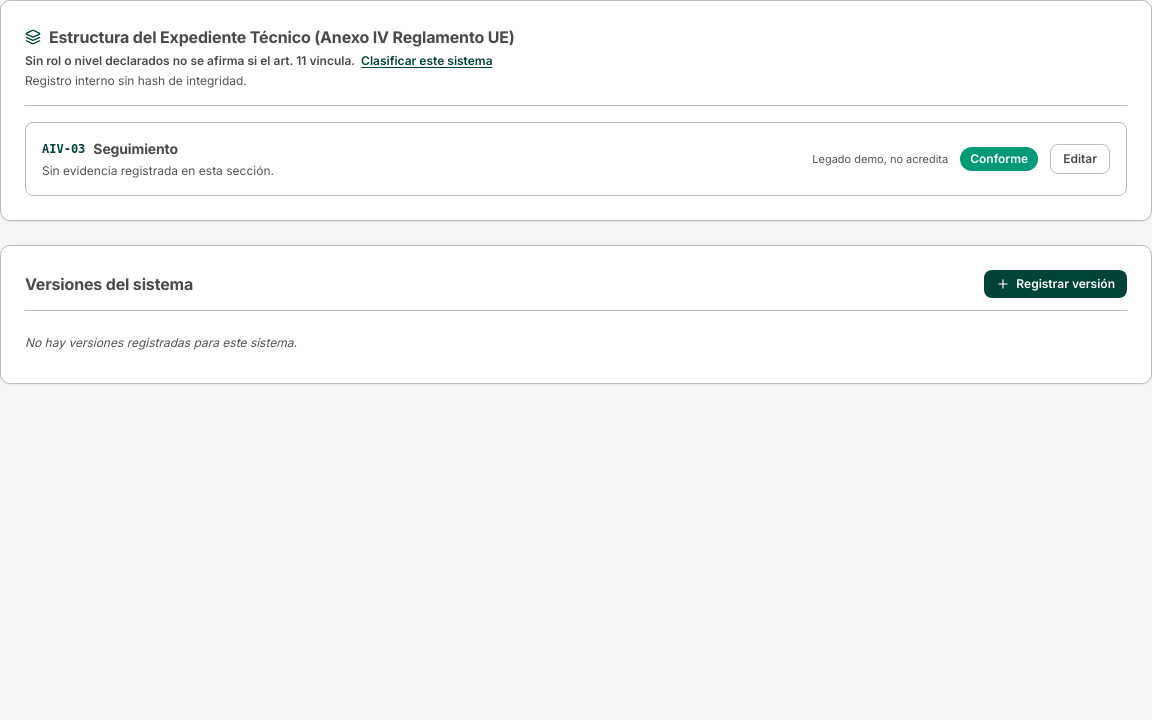
Test: F1.T7 — editar una sección «Conforme» avisa de que el estado no se conserva › antes de guardar dice en qué estado queda y que «Conforme» se pierde
Click the button "Editar".
click(1080, 159)  # box [1050,144,1110,174]
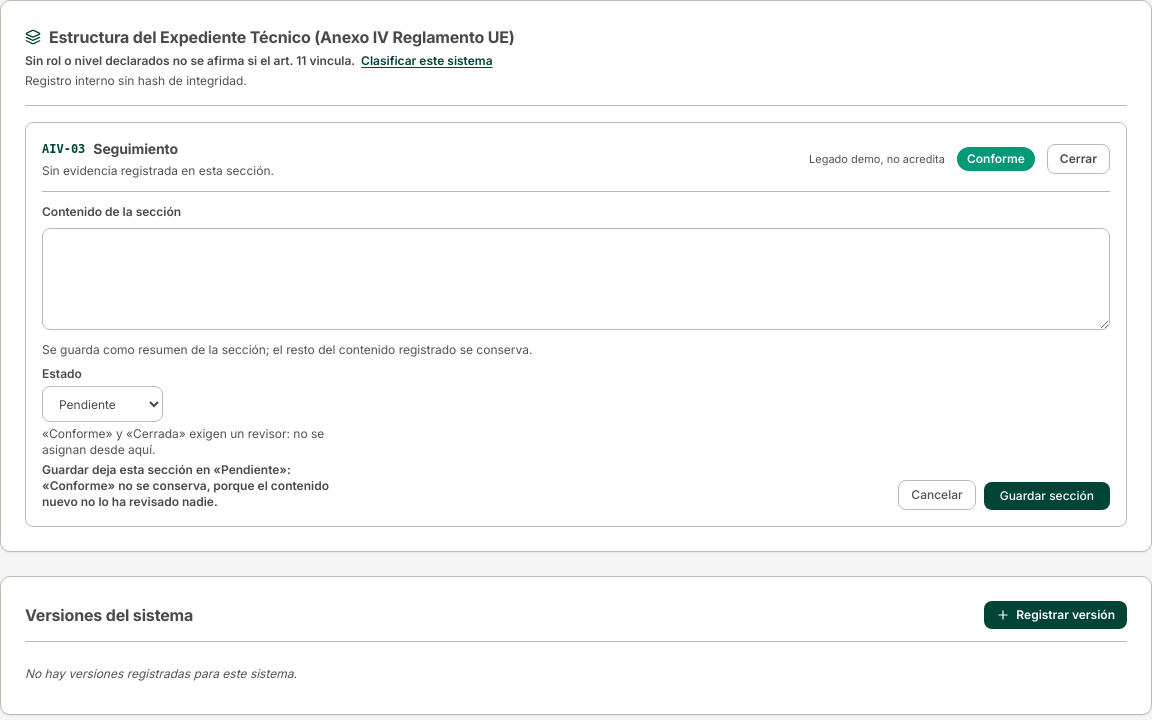
expect the text "Guardar deja esta sección en «Pendiente»" is shown: met, box [42,462,362,510]
expect the text "«Conforme» no se conserva" is shown: met, box [42,462,362,510]
Select "No conforme" in the dropdown labelled "Estado" at (102, 404), box [42,386,163,422]
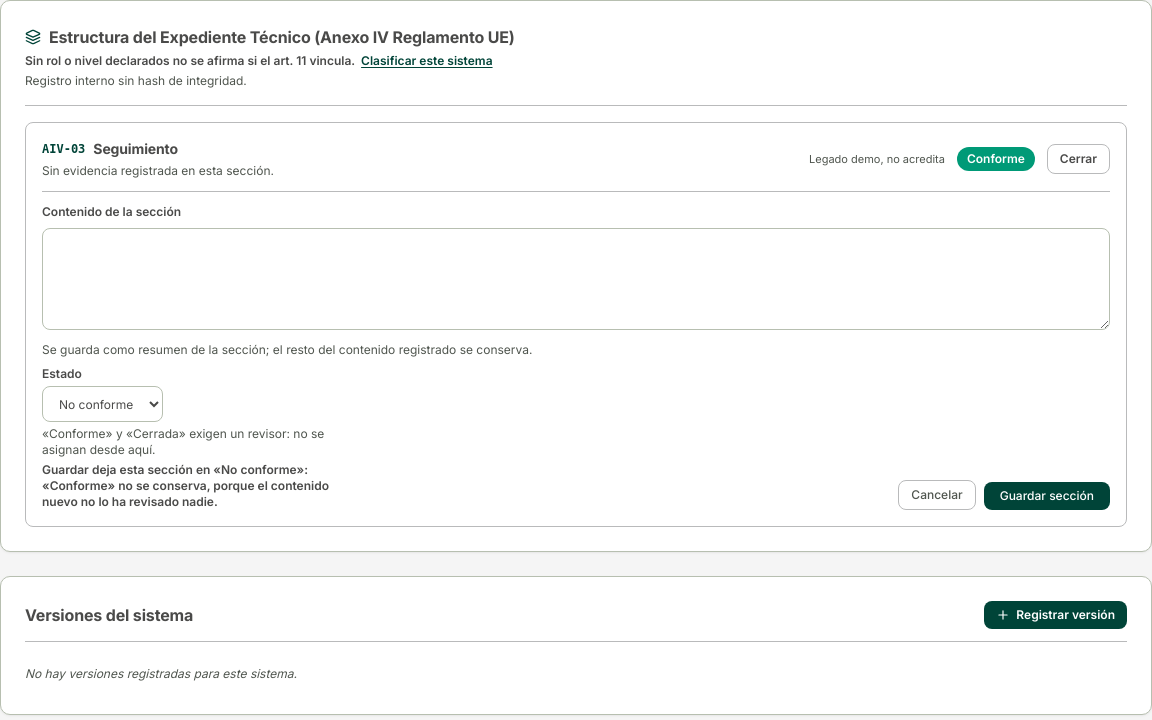
expect the text "Guardar deja esta sección en «No conforme»" is shown: met, box [42,462,362,510]
